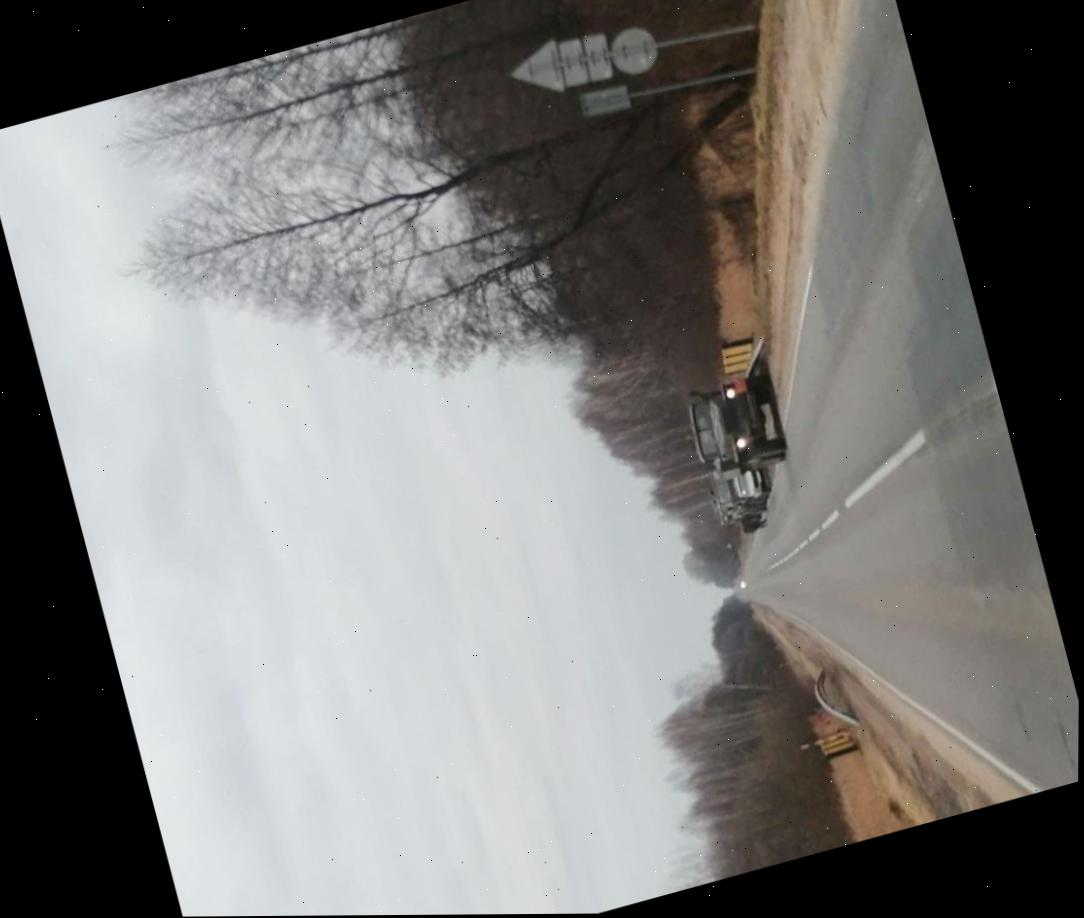car: (734, 470, 771, 501)
truck: (672, 364, 791, 482)
